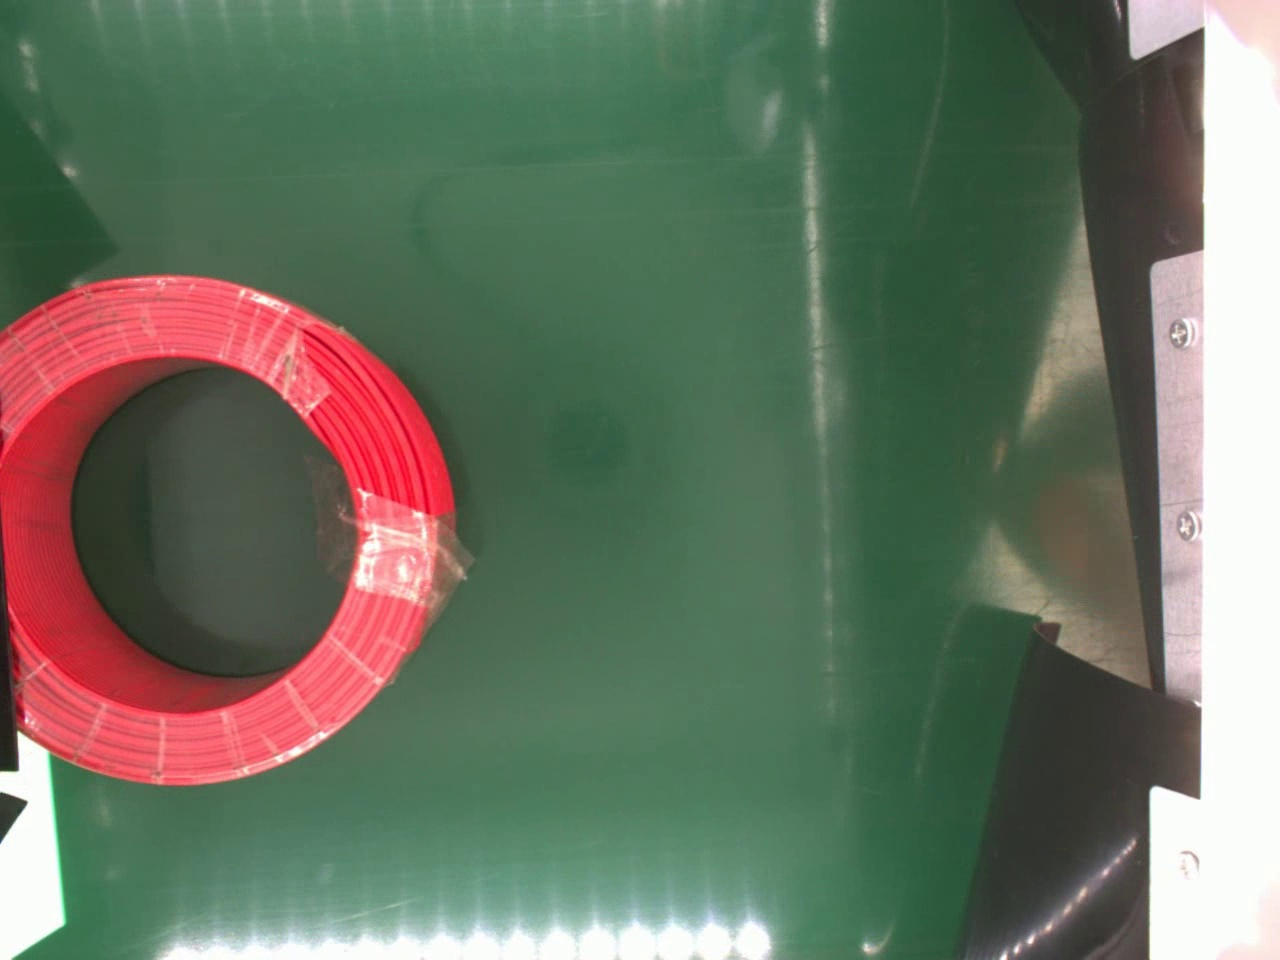red: (0, 274, 458, 794)
